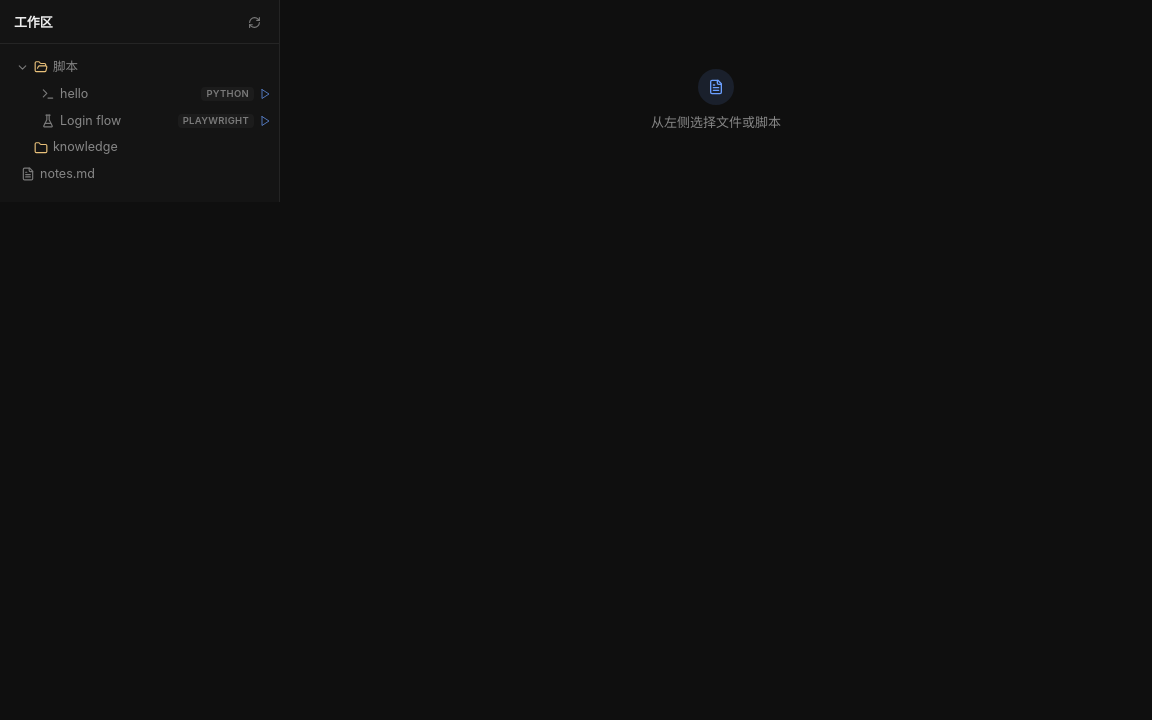
Test: WorkspacePage › reopens a past run from the history list
Click the element with class "file-tree-row" showing "Login flow playwright". click: x=91, y=120
box: [41, 112, 271, 128]
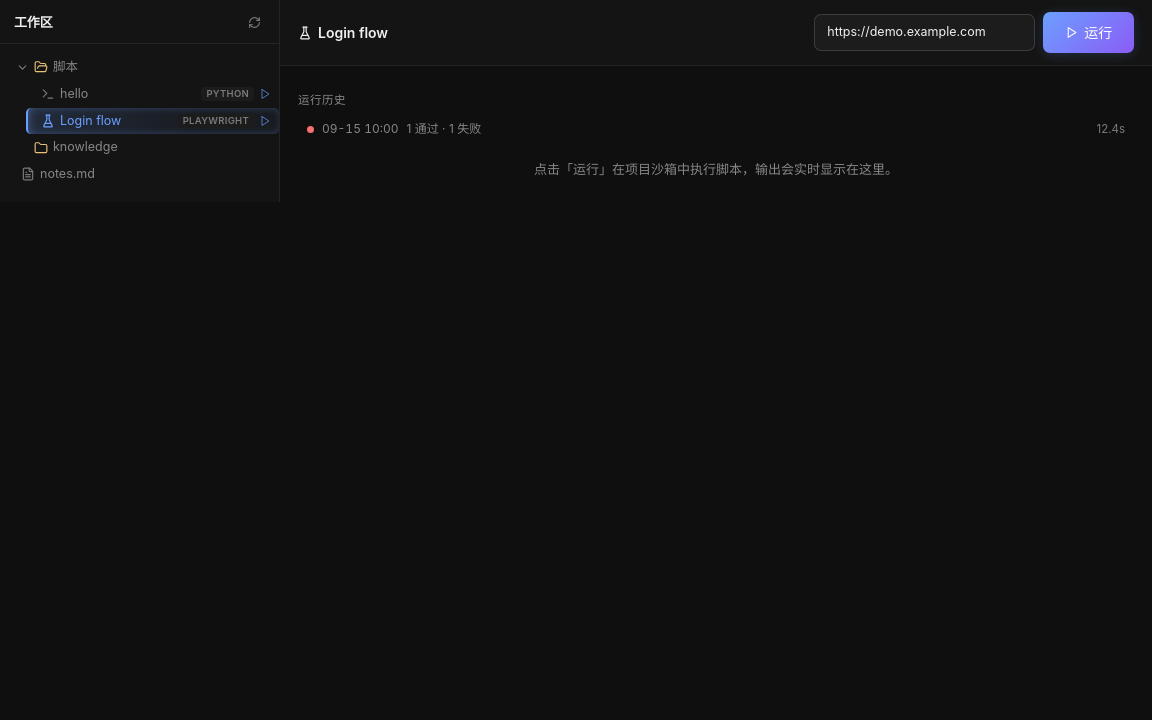
Check: the button with class "run-history-row" is shown
Click the button with class "run-history-row". click: x=360, y=129
box: [298, 115, 1134, 143]
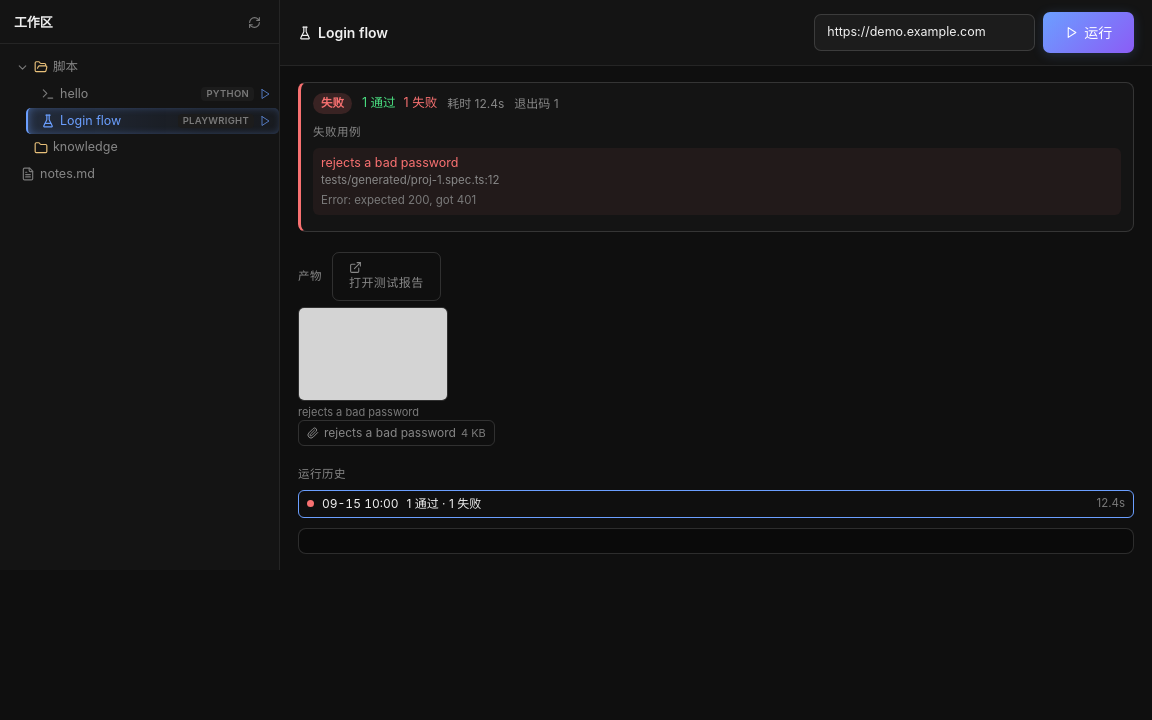
Check: the element with class "run-result-card" is shown, box [298, 82, 1134, 232]
